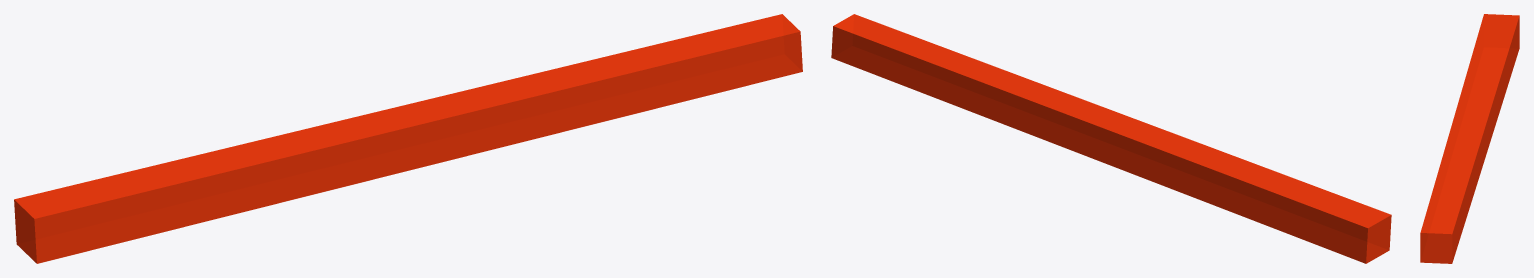
The model's file is Event_421364160_EErechit_24.fbx.
3 views of the same model, side by side, from view 1: azimuth 30°, elevation 25°; view 2: azimuth 150°, elevation 25°; view 3: azimuth 270°, elevation 25° (orthographic). The views are drawn at different scales.
Visible parts, largest first — view 1: Model; view 2: Model; view 3: Model.
Boxes of the visible parts, left/top/right/bottom form: Model: left=14, top=14, right=802, bottom=263; Model: left=831, top=14, right=1391, bottom=263; Model: left=1420, top=14, right=1519, bottom=263.
Size of the model in its own units: 1.35 by 0.1596 by 0.2248.
